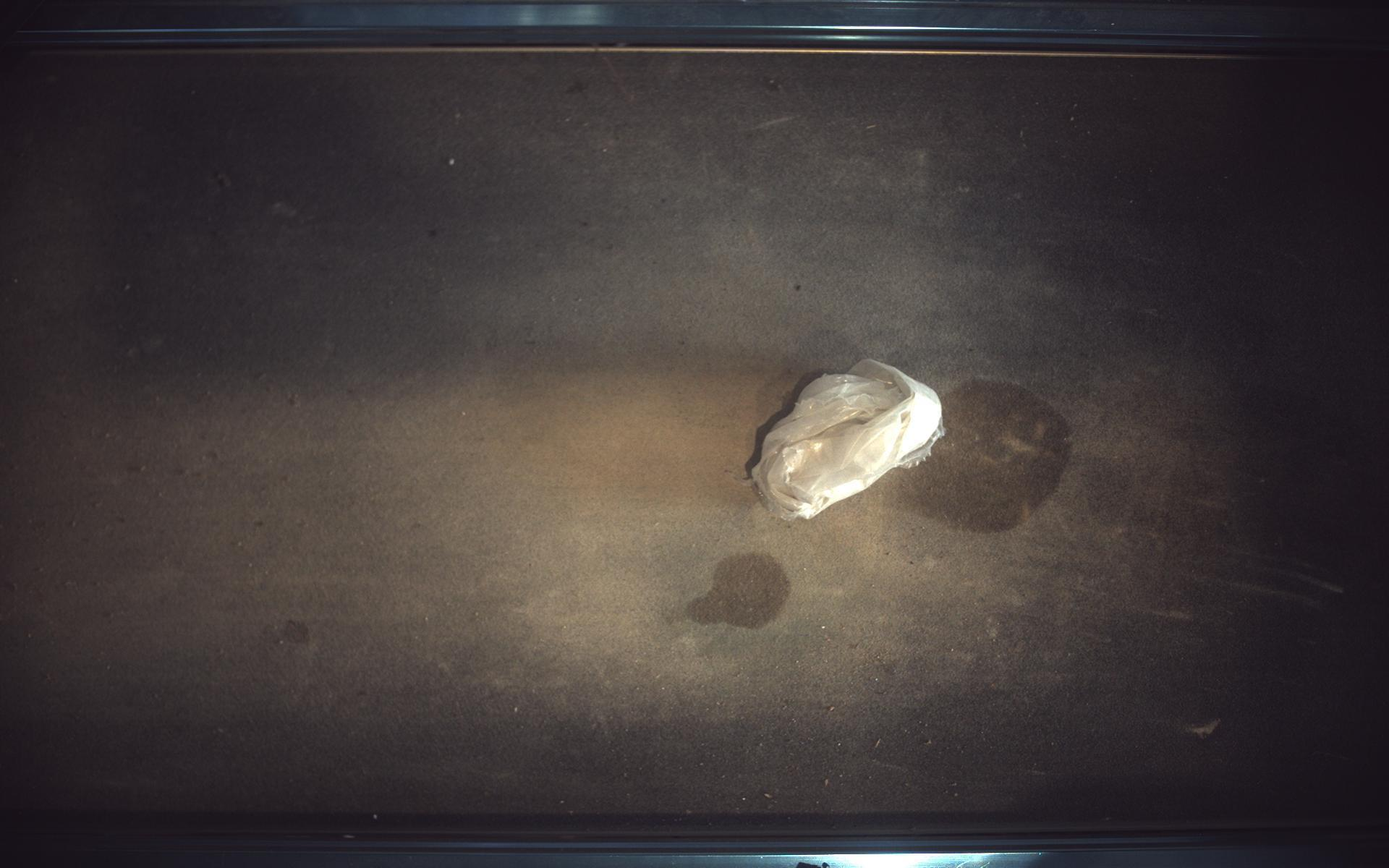general_w: (753, 359, 946, 521)
